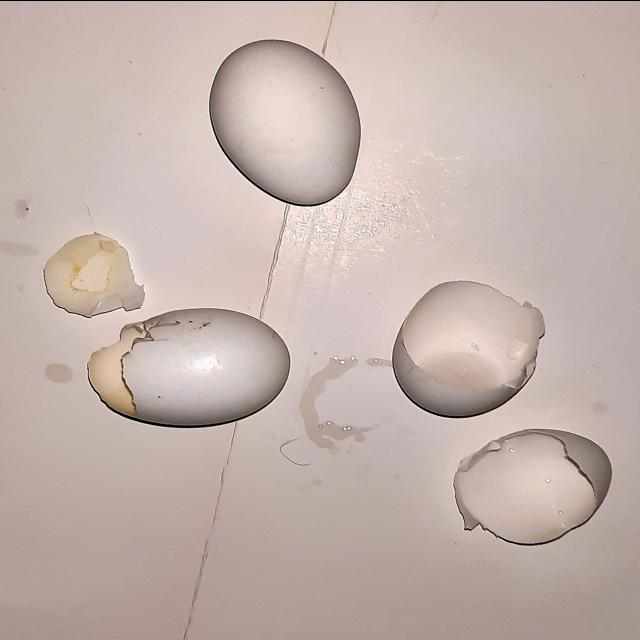egg shell: (205, 32, 368, 212), (82, 302, 298, 436), (387, 262, 552, 424), (446, 423, 616, 547), (42, 228, 149, 319)
